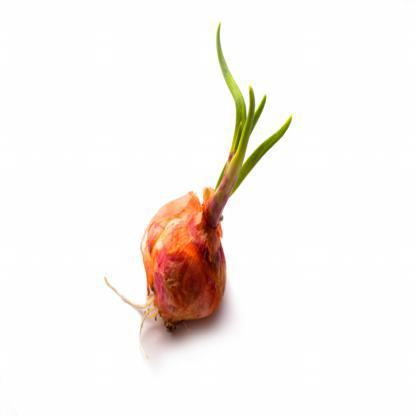onion: (144, 182, 226, 324)
